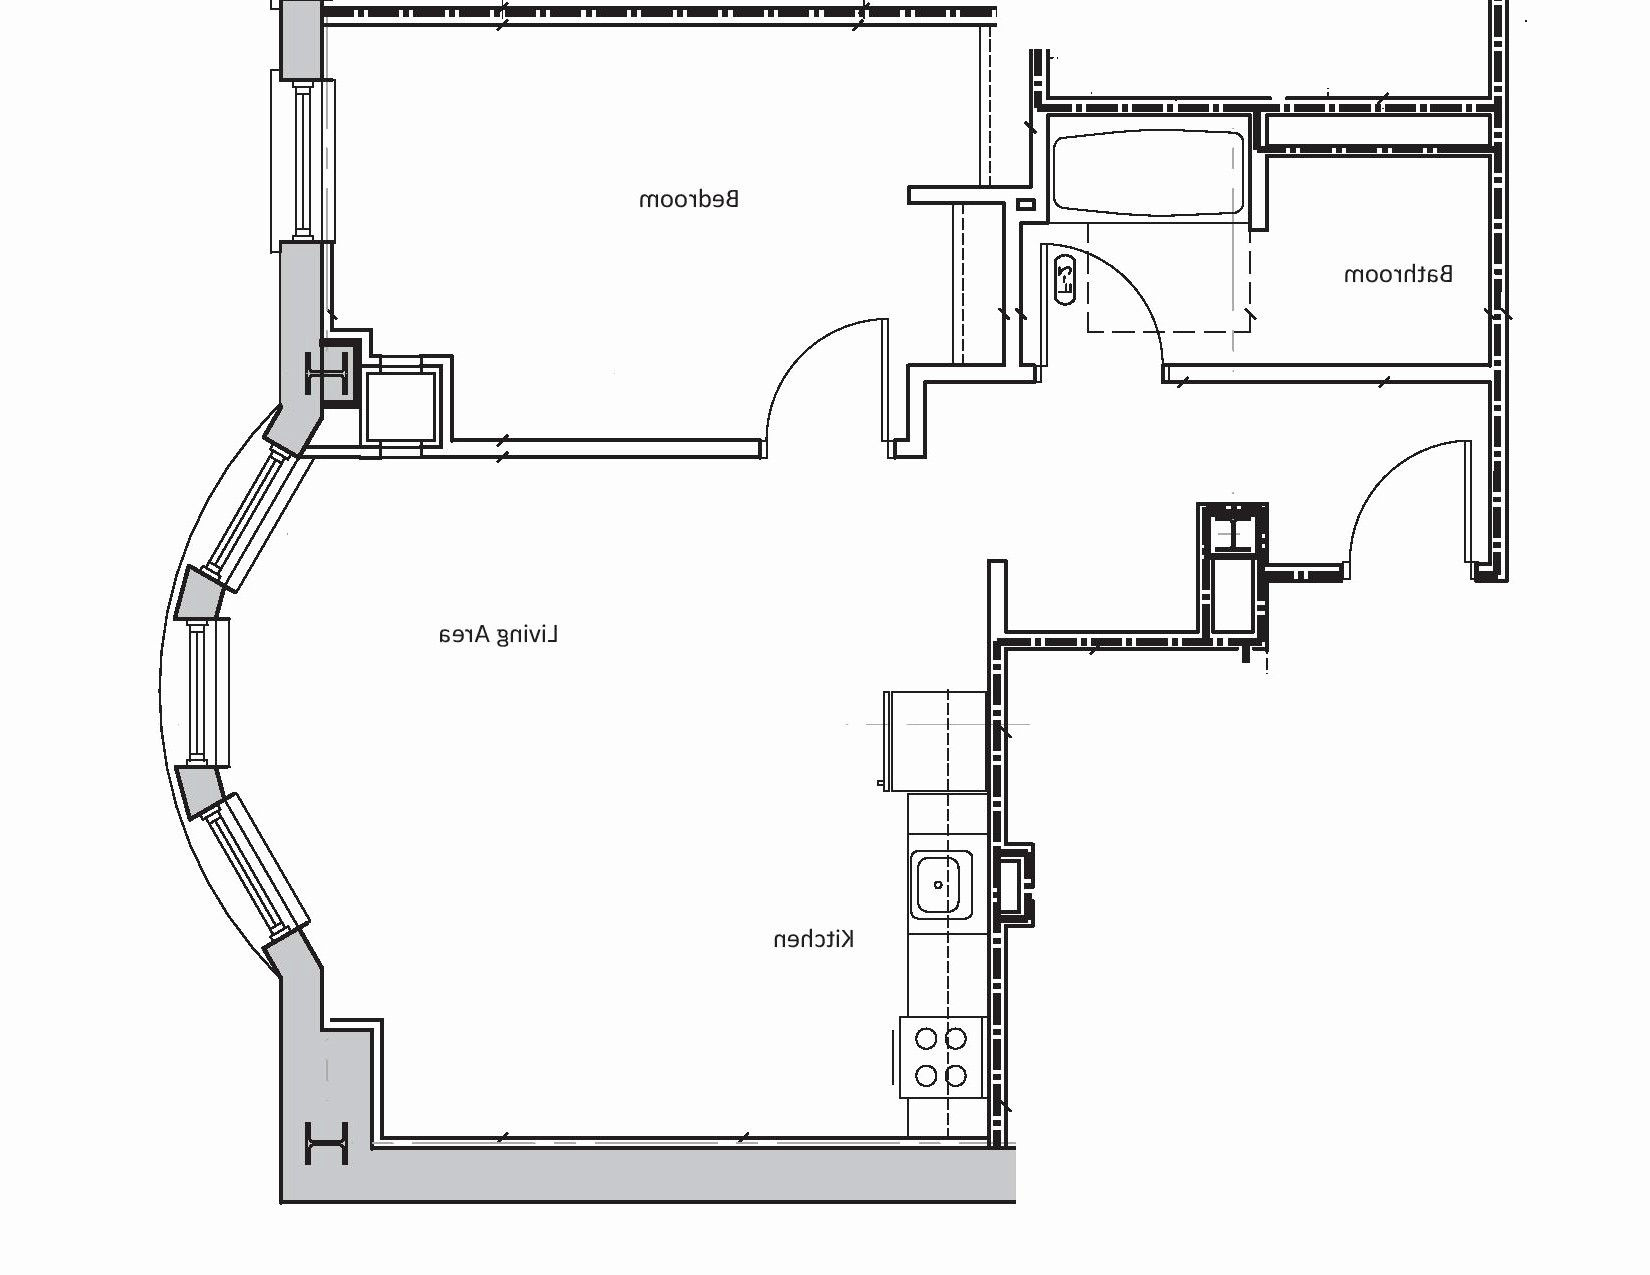door: (762, 300, 895, 430), (1342, 422, 1475, 552), (1029, 224, 1161, 354)
